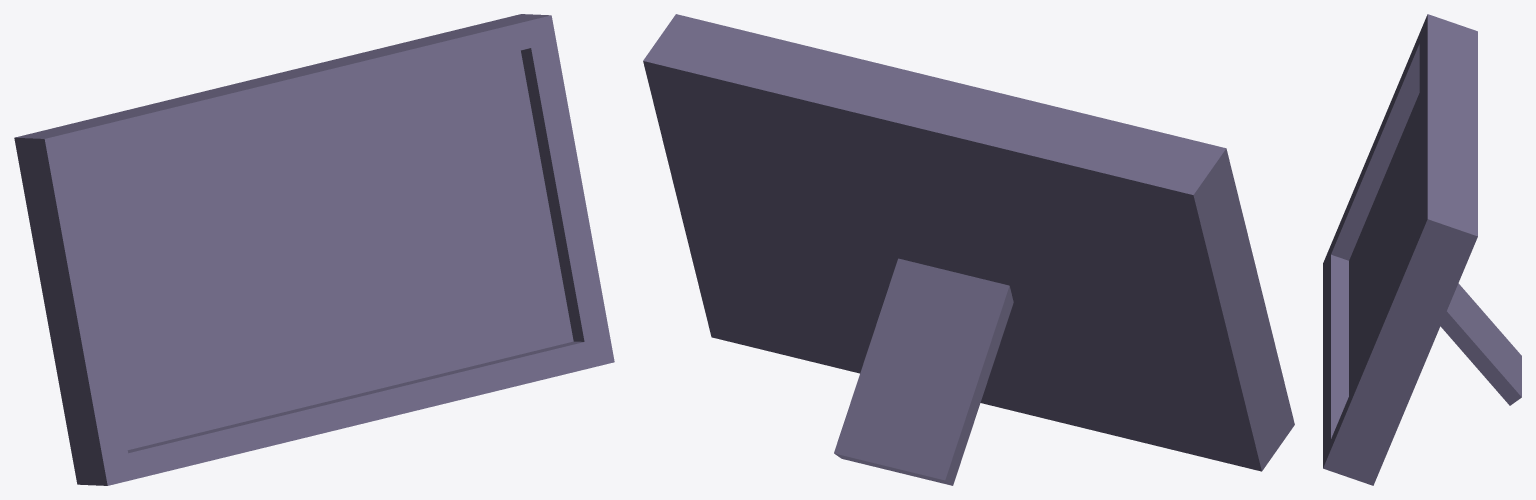
Rendered from SM_Photo1.fbx.
3 renders of one model, left to right at view 1: azimuth 30°, elevation 25°; view 2: azimuth 150°, elevation 25°; view 3: azimuth 270°, elevation 25°, orthographic. The views are drawn at different scales.
Visible parts, largest first — view 1: SM_Photo1; view 2: SM_Photo1; view 3: SM_Photo1.
Part boxes in pixels (<box>): SM_Photo1: <box>14,14,614,485</box>; SM_Photo1: <box>643,14,1294,485</box>; SM_Photo1: <box>1323,14,1521,485</box>.
Bounding box in the file's own units: 44.4 × 27.11 × 18.19.
